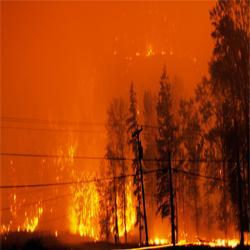fire: (70, 176, 102, 231), (147, 236, 239, 247), (117, 190, 140, 233)
